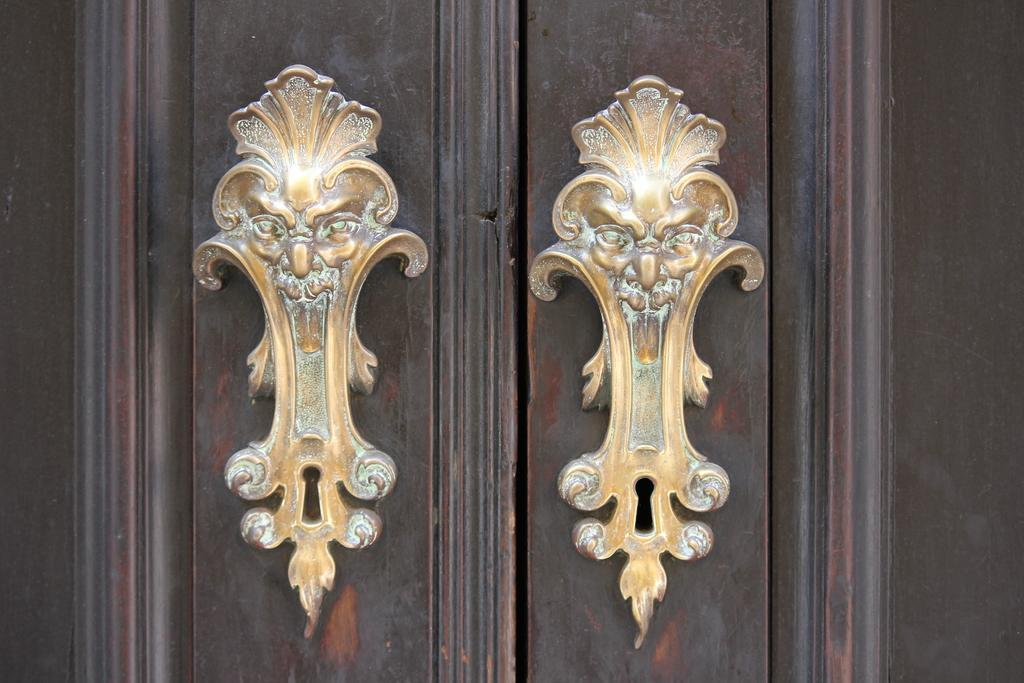handle: (194, 66, 428, 628), (526, 83, 762, 638)
